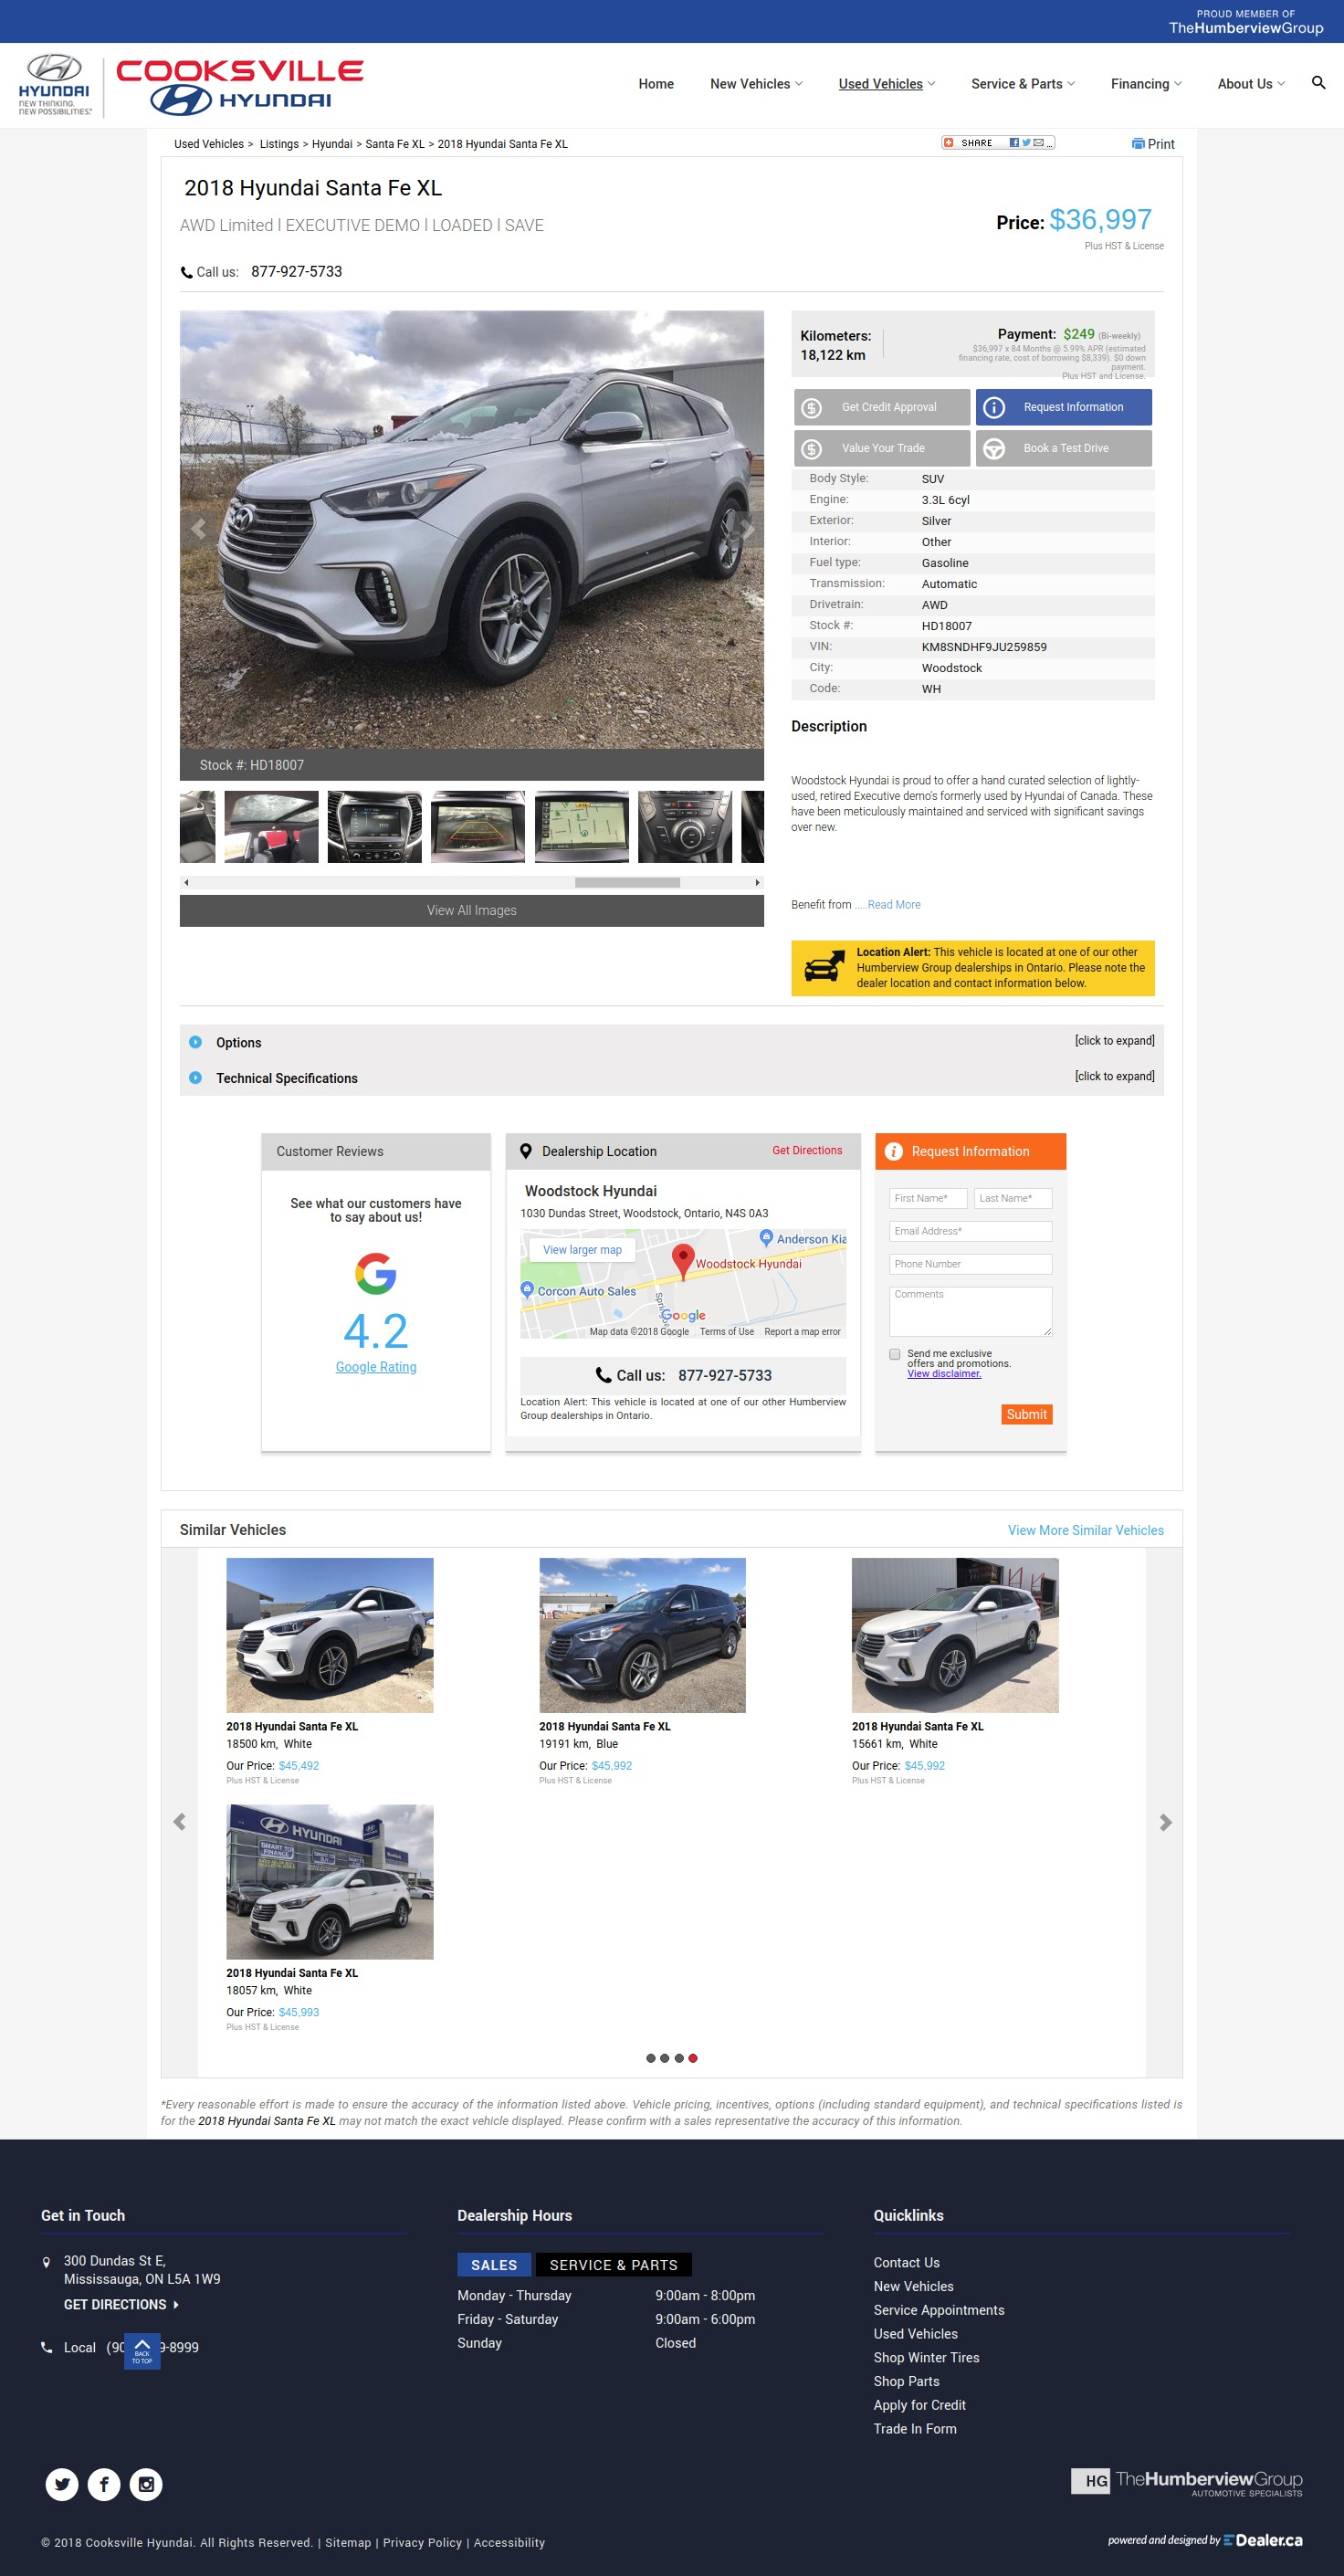car: (756, 879, 760, 888)
